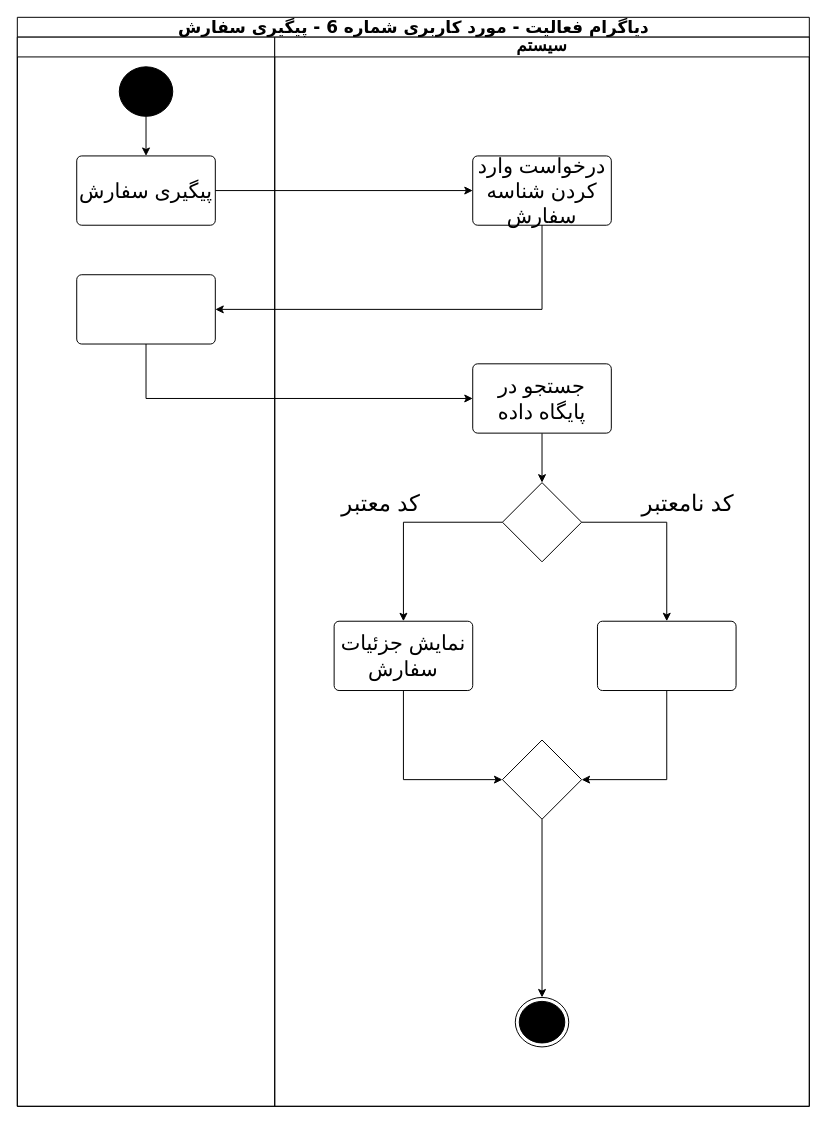
Image size: 827x1124. Some labels were removed from this diagram. Each missing label, with the box of its shape:
مشتری: (16, 36, 275, 1106)
نمایش پیام خطای عدم وجود سفارش: (596, 620, 736, 691)
وارد کردن شناسه سفارش: (76, 274, 215, 344)
